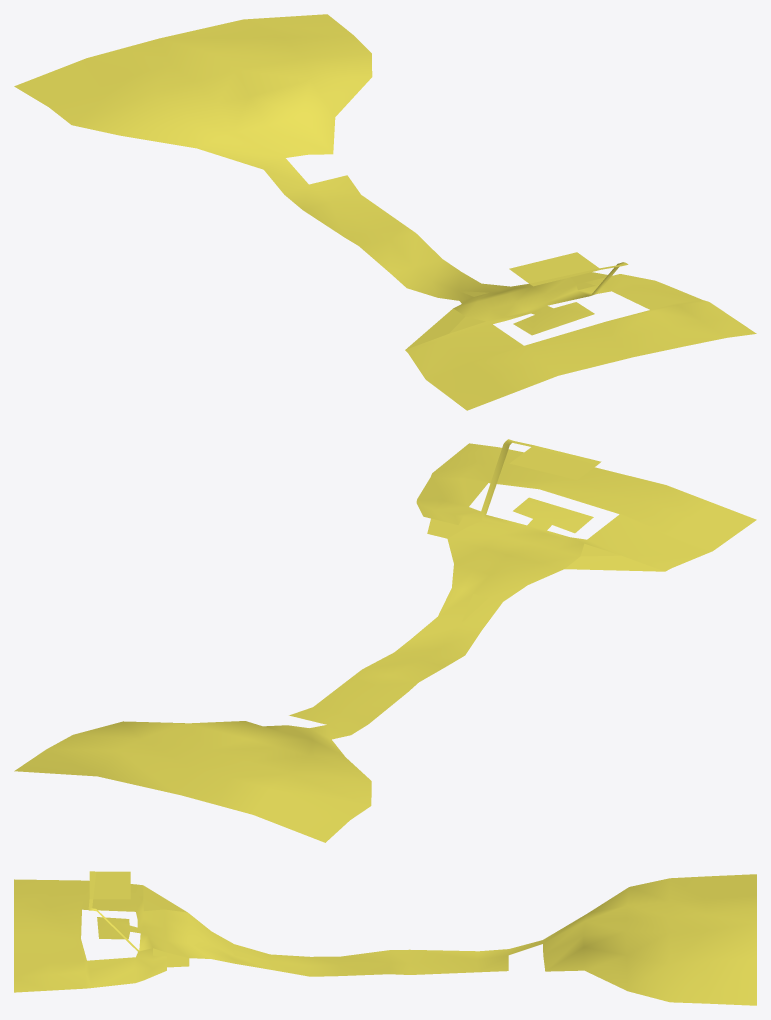
The model's file is navMesh.glb.
The picture shows the model from 3 angles, top to bottom: view 1: azimuth 30°, elevation 25°; view 2: azimuth 150°, elevation 25°; view 3: azimuth 270°, elevation 25°; orthographic projection. The views are drawn at different scales.
Visible parts, largest first — view 1: navMesh; view 2: navMesh; view 3: navMesh.
Part boxes in pixels (box(x1,y1,x2,y2)): navMesh: box(14, 14, 756, 410); navMesh: box(14, 439, 756, 842); navMesh: box(14, 871, 756, 1005).
Bounding box in the file's own units: 39.93 × 12.14 × 97.92.
